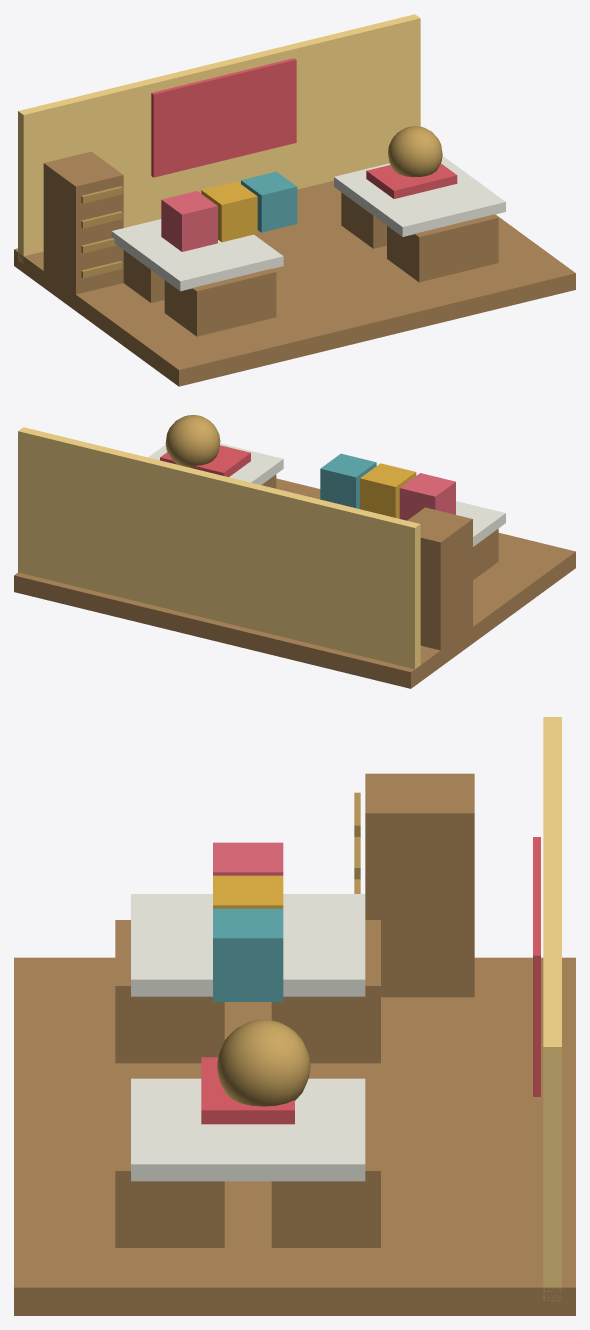
Rendered from learning.glb.
3 renders of one model, top to bottom at view 1: azimuth 30°, elevation 25°; view 2: azimuth 150°, elevation 25°; view 3: azimuth 270°, elevation 25°, orthographic. The views are drawn at different scales.
Bounding box in the file's own units: 5 × 1.9 × 3.6.
